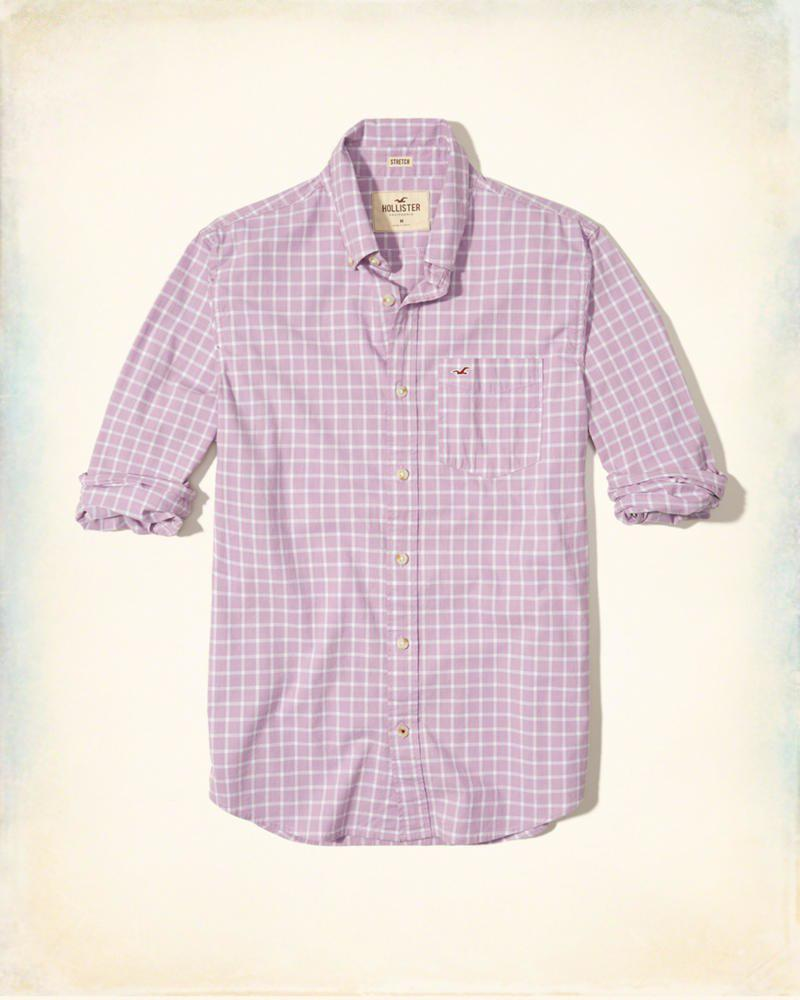teeshirt: (65, 110, 732, 862)
